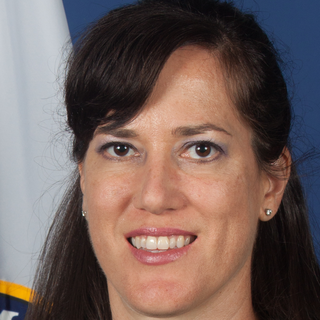eye: (167, 139, 232, 167), (93, 138, 147, 165)
